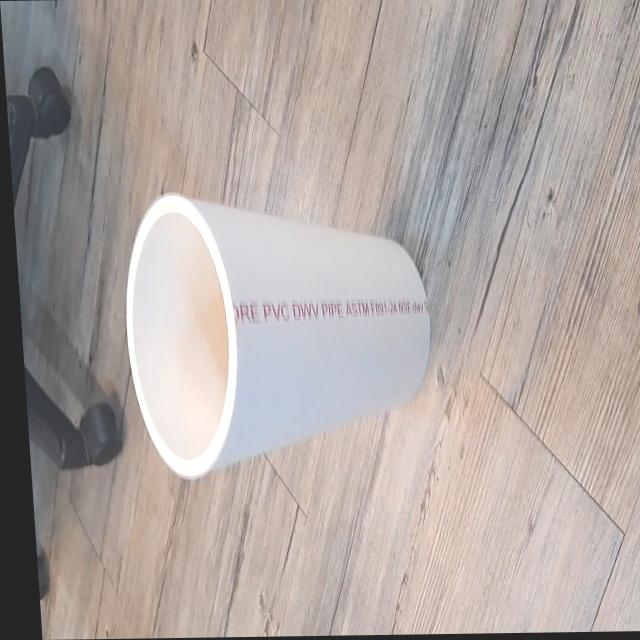CORAL: (106, 154, 454, 514)
